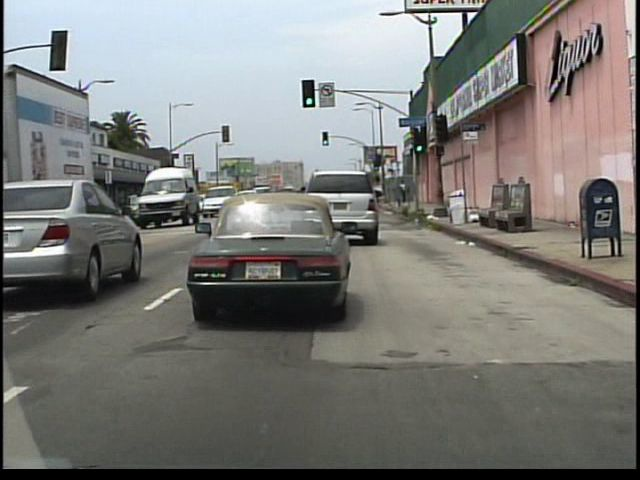person: (399, 180, 409, 204)
